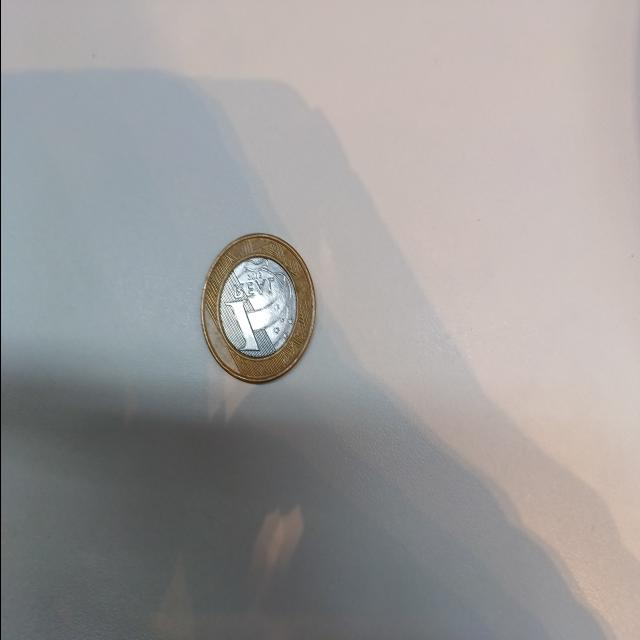1 real: (198, 230, 318, 384)
